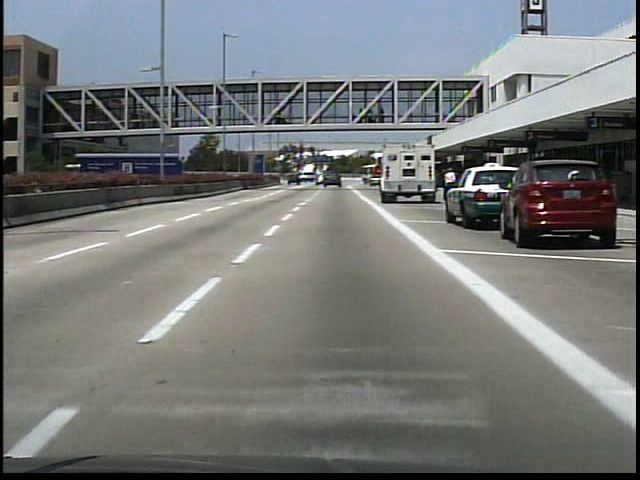person: (442, 168, 458, 209)
